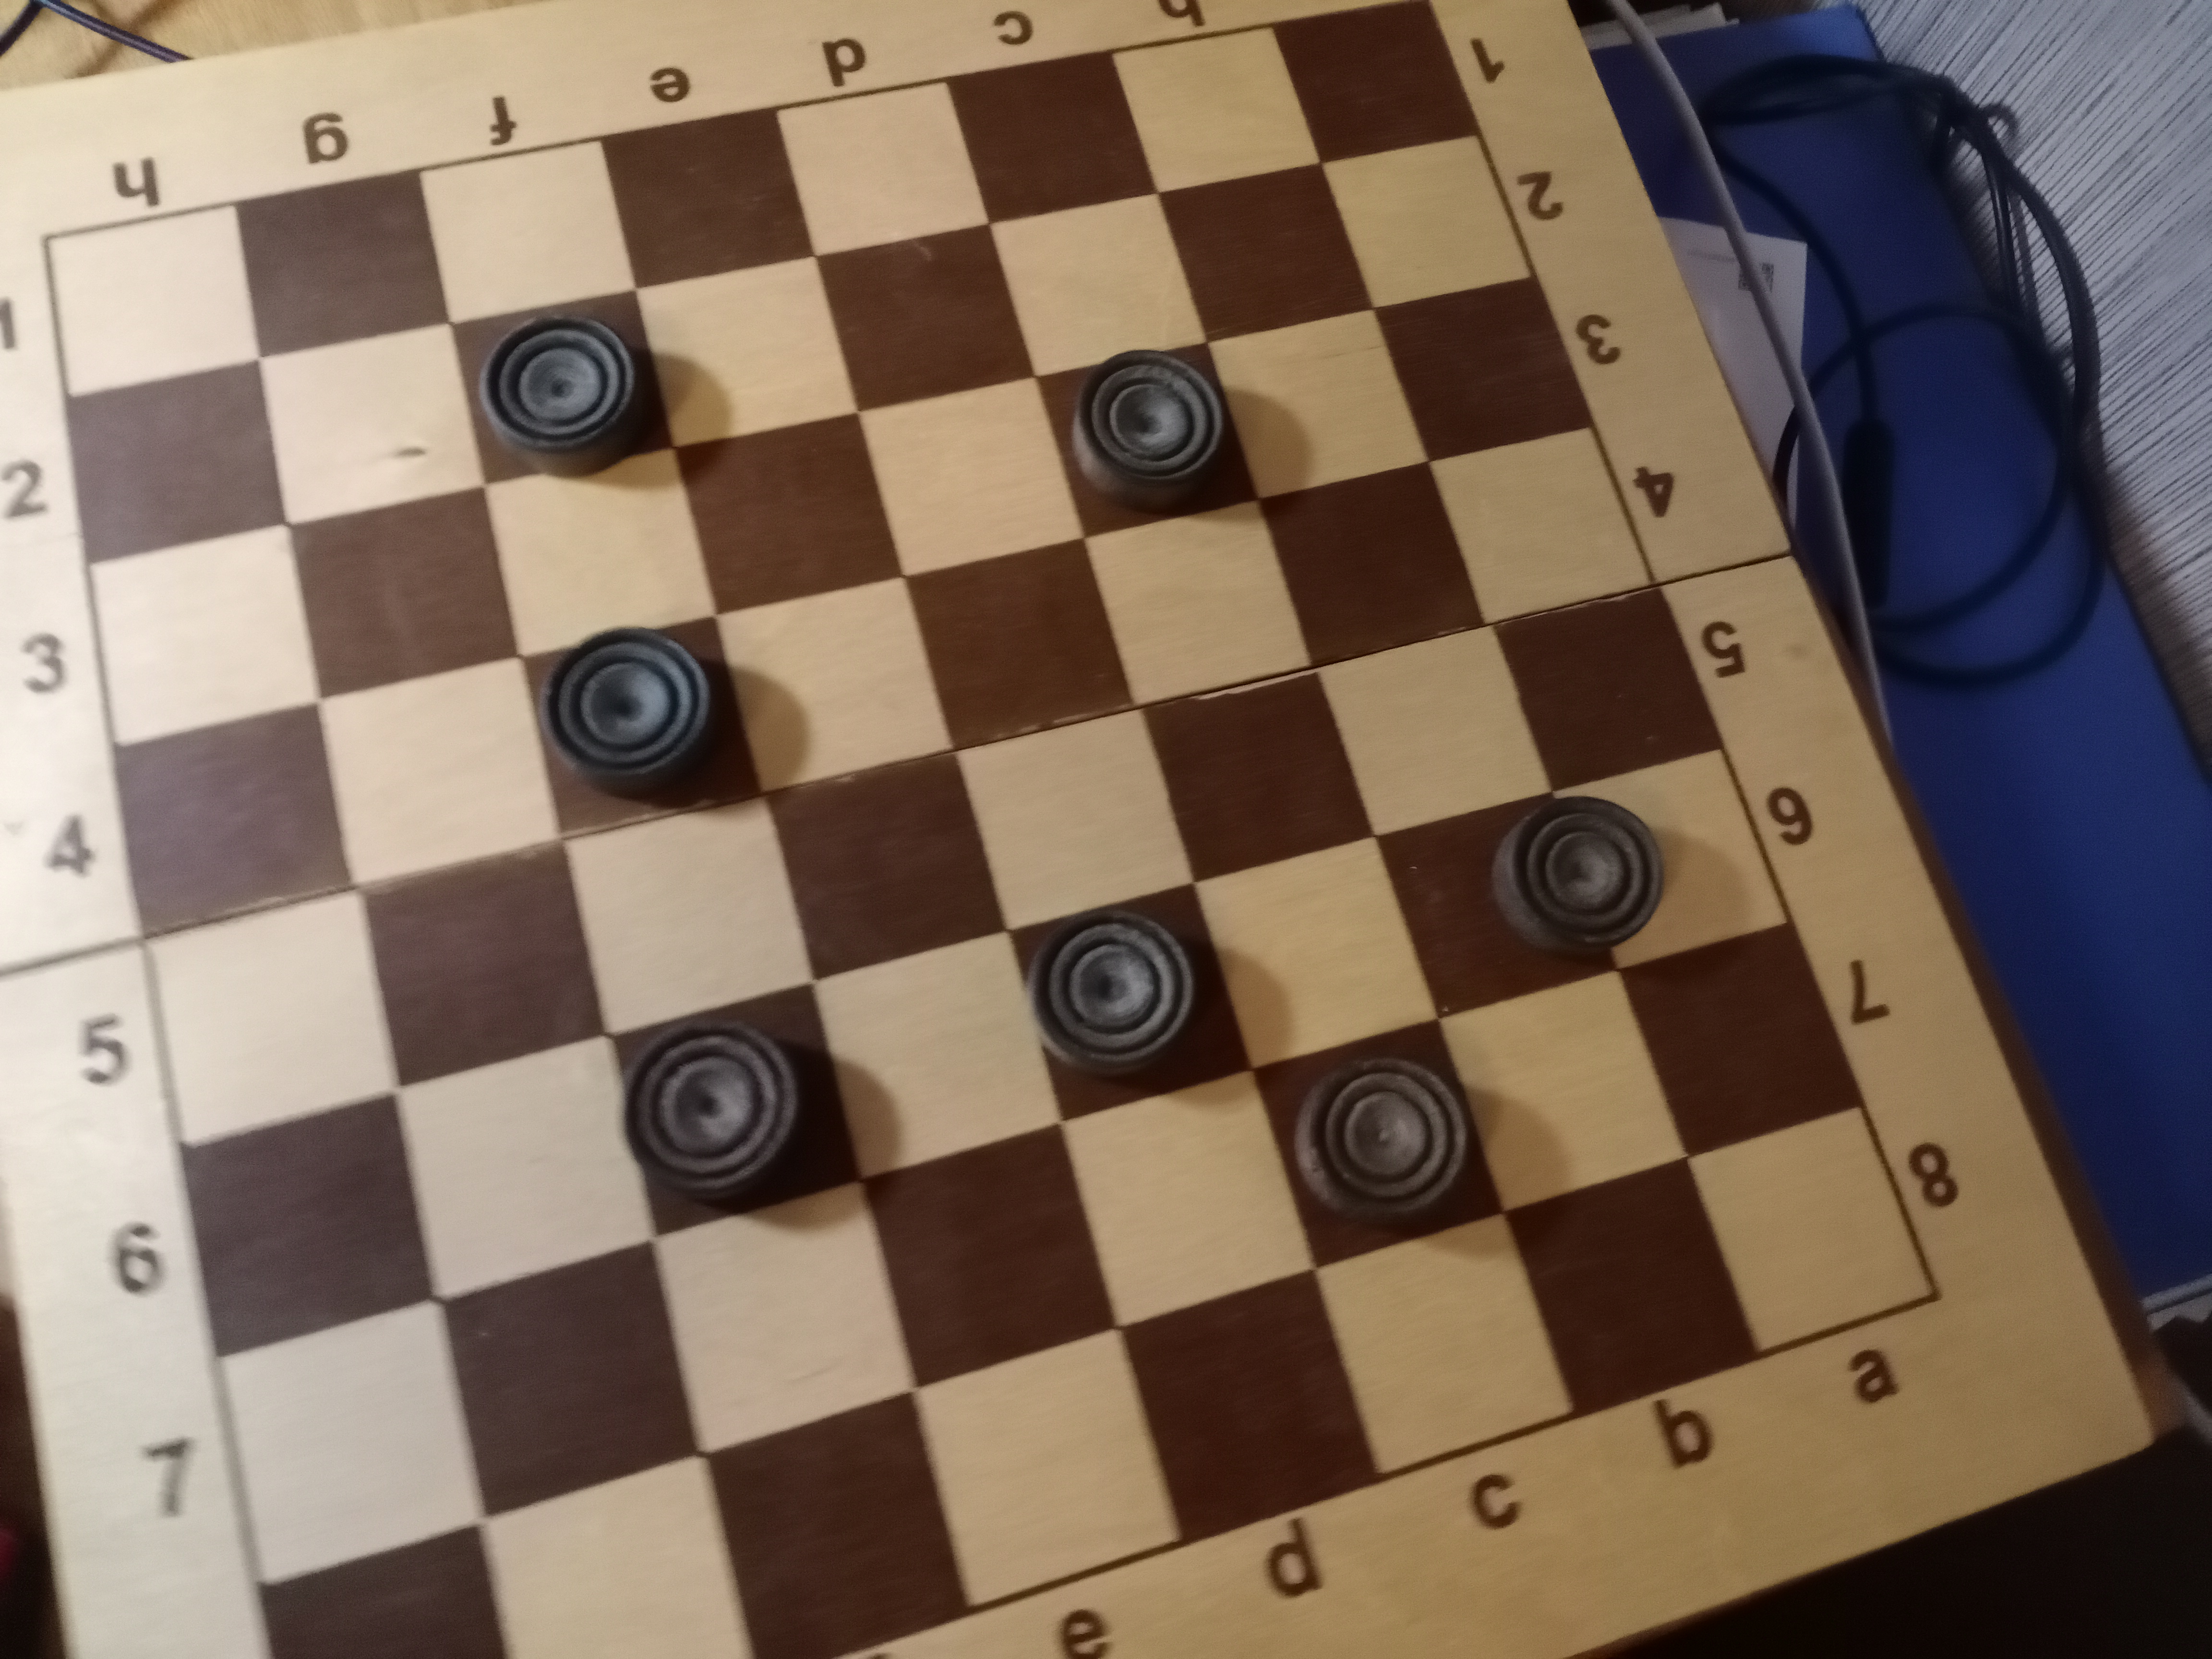Black_Draught: (1254, 1019, 1505, 1281), (608, 983, 864, 1237), (1378, 791, 1667, 1016), (1007, 880, 1252, 1119), (521, 619, 766, 842), (1036, 343, 1259, 542), (448, 291, 676, 481)
